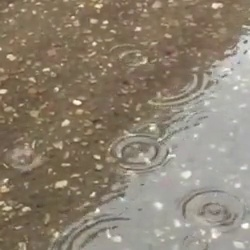drop: (179, 187, 244, 232), (52, 214, 134, 249), (106, 135, 170, 173), (148, 65, 207, 105), (110, 43, 148, 69), (6, 149, 36, 171)
